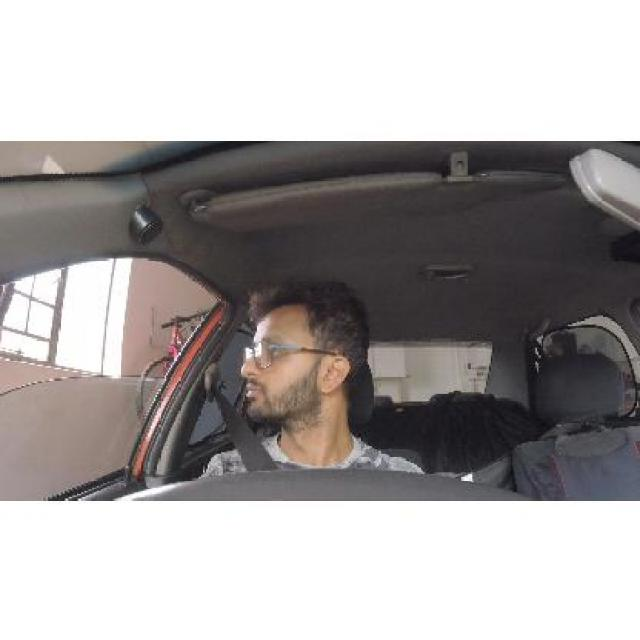LeftRight: (234, 294, 367, 421)
